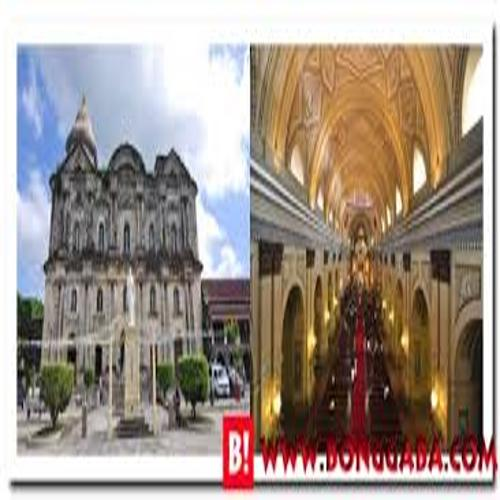Taal Basilica Church: (35, 90, 207, 411)
